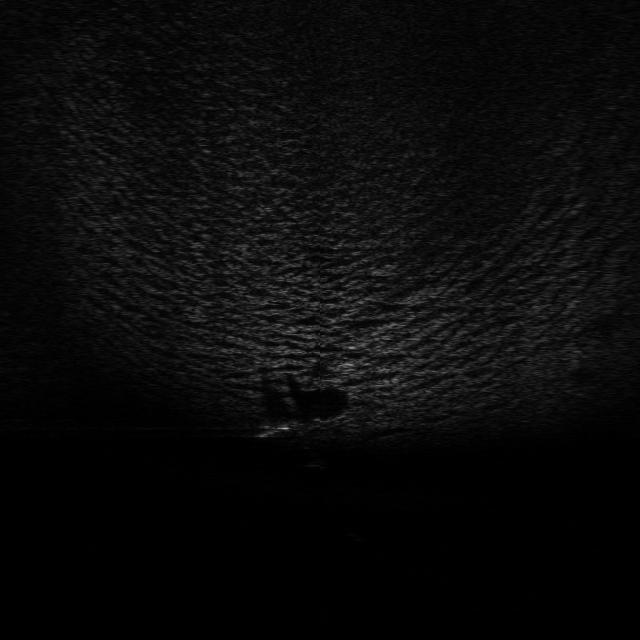plane: (256, 414, 344, 438)
